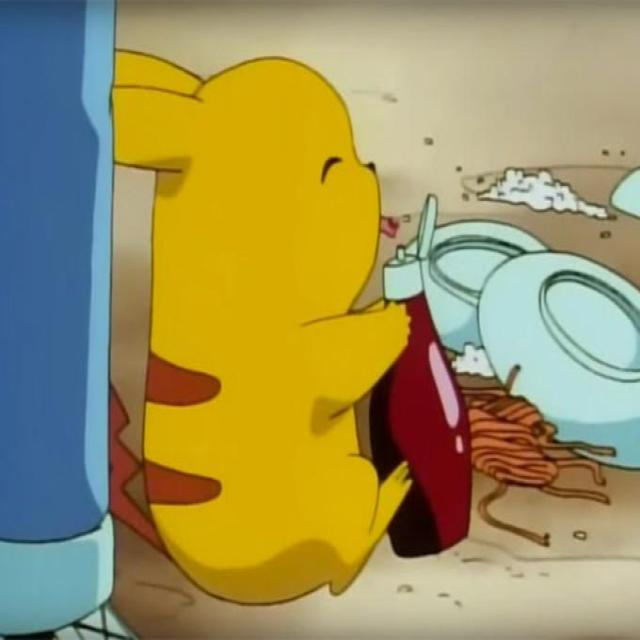pikachu: (108, 43, 408, 604)
